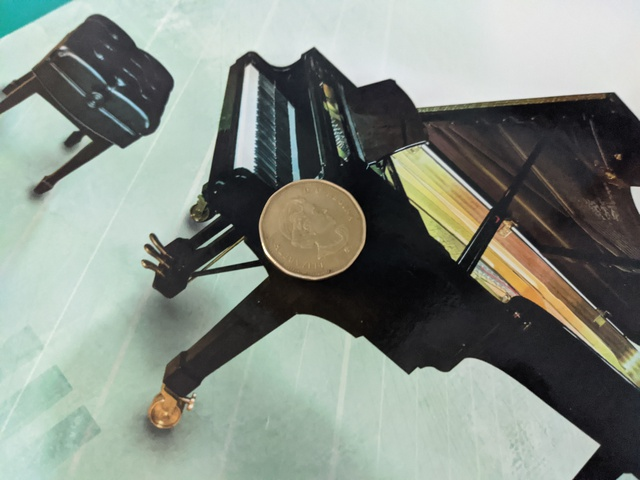loonie: (257, 174, 369, 281)
